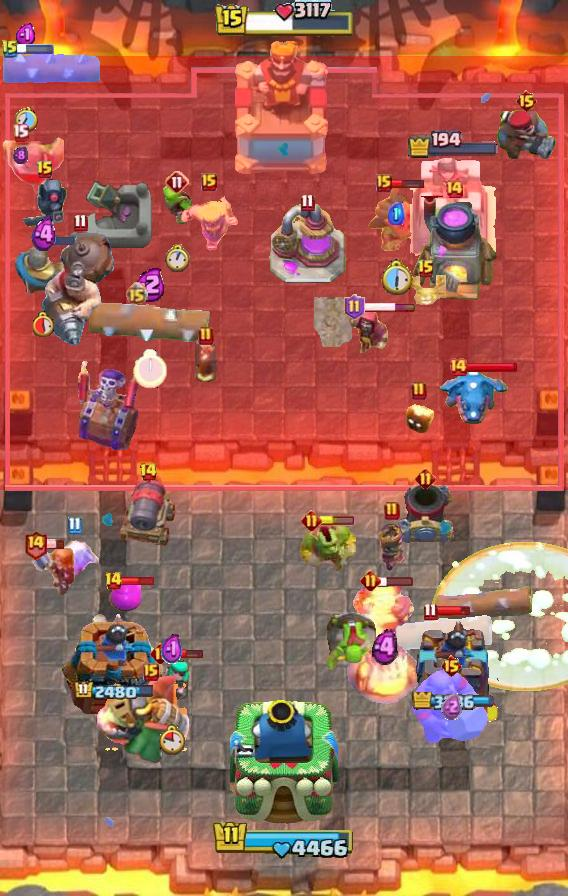bar: (466, 361, 518, 373), (362, 302, 416, 313), (435, 605, 471, 617), (378, 575, 414, 587), (121, 575, 156, 587), (41, 234, 76, 246), (168, 648, 204, 659), (390, 178, 425, 189), (17, 44, 55, 54), (319, 516, 355, 526), (46, 539, 65, 550)
bar-level: (23, 529, 48, 560), (165, 170, 189, 194), (440, 654, 463, 678), (515, 89, 538, 113), (344, 294, 365, 320), (125, 282, 148, 305), (150, 643, 171, 664), (360, 570, 381, 591), (301, 510, 322, 531), (415, 468, 436, 489), (448, 357, 468, 377), (444, 179, 464, 199), (104, 571, 123, 591), (139, 462, 158, 482), (417, 259, 435, 279), (36, 160, 54, 180), (1, 39, 19, 59), (12, 123, 29, 142), (384, 501, 400, 521), (411, 381, 427, 401), (198, 326, 214, 346), (143, 663, 159, 681), (376, 174, 392, 192), (201, 173, 217, 191), (423, 602, 438, 621), (67, 516, 82, 535), (73, 213, 88, 232), (300, 193, 315, 212)
barbarian-evolution: (179, 194, 239, 252)
clock: (133, 349, 167, 389), (379, 259, 413, 296), (159, 724, 186, 755), (165, 244, 190, 273), (15, 107, 38, 132), (33, 311, 55, 337)
dart-goblin: (367, 184, 425, 254)
dirt: (314, 297, 352, 347)
electro-dragon: (437, 365, 509, 427)
elixir: (134, 266, 167, 302), (31, 216, 58, 253), (372, 629, 398, 666), (161, 633, 183, 667), (441, 693, 462, 720), (15, 23, 37, 47), (388, 202, 405, 225), (13, 146, 28, 165)
elixir-golem-small: (109, 581, 141, 611)
fire-spirit: (193, 336, 219, 386), (404, 403, 434, 435)
goblin: (160, 184, 194, 228)
goblin-ball: (323, 611, 377, 673)
goblin-brawler: (297, 523, 357, 577)
hunter: (494, 107, 558, 161)
ice-spirit-evolution: (49, 539, 99, 577)
king-tower: (228, 41, 340, 181), (230, 698, 338, 826)
king-tower-bar: (212, 819, 356, 861), (213, 0, 355, 40)
knight: (0, 133, 64, 199), (13, 244, 75, 296)
lava-pup: (406, 275, 446, 307)
little-prince: (376, 523, 408, 573)
mini-pekka: (20, 176, 70, 230)
mortar: (394, 479, 456, 547)
queen-tower: (62, 612, 166, 731), (405, 617, 501, 731), (410, 156, 496, 256)
rascal-girl: (151, 659, 193, 707)
the-log: (87, 298, 213, 348), (392, 610, 494, 654), (434, 585, 534, 623), (0, 53, 102, 89)
tower-bar: (407, 130, 500, 159), (73, 680, 155, 702), (412, 692, 495, 710)
valkyrie: (31, 547, 77, 597)
wizard: (347, 307, 391, 359)
